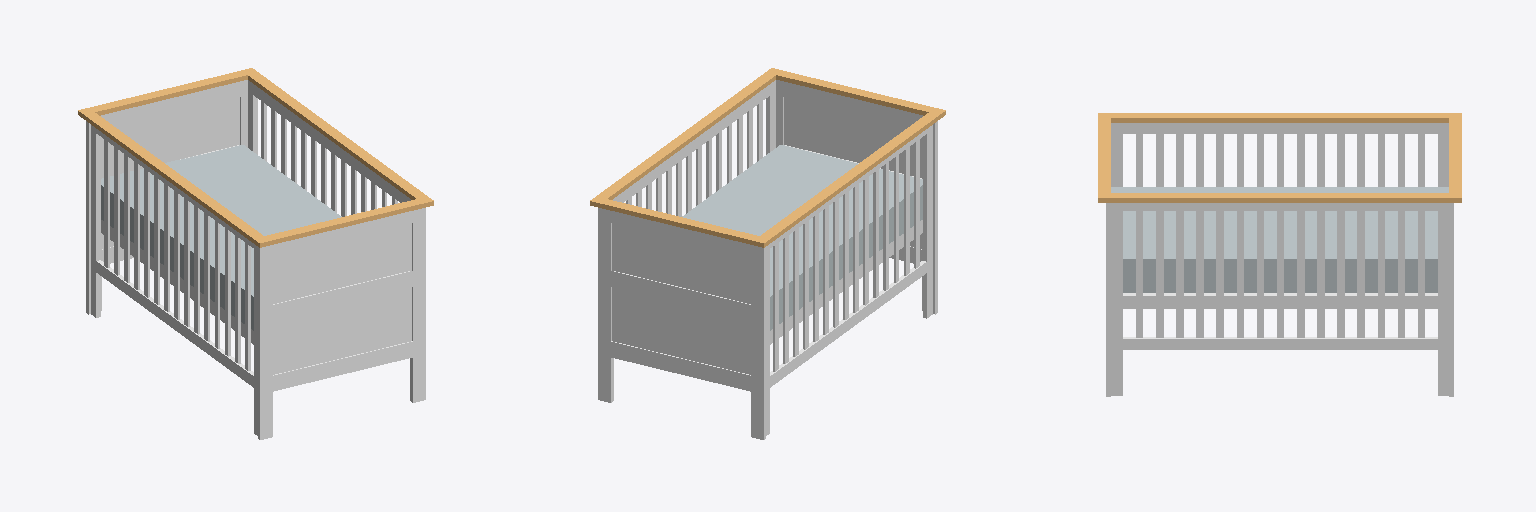
3 renders of one model, left to right at view 1: azimuth 30°, elevation 25°; view 2: azimuth 150°, elevation 25°; view 3: azimuth 270°, elevation 25°, orthographic.
Parts seen in each view (by area): view 1: group[number redacted], group[number redacted], group[number redacted], group[number redacted], group[number redacted], group[number redacted]; view 2: group[number redacted], group[number redacted], group[number redacted], group[number redacted], group[number redacted], group[number redacted]; view 3: group[number redacted], group[number redacted], group[number redacted], group[number redacted], group[number redacted], group[number redacted].
Boxes of the visible parts, x1,y1,x2,y2 form: group[number redacted]: [253, 196, 433, 439]; group[number redacted]: [84, 112, 262, 435]; group[number redacted]: [101, 145, 341, 330]; group[number redacted]: [78, 68, 257, 314]; group[number redacted]: [248, 72, 426, 216]; group[number redacted]: [101, 220, 253, 344]; group[number redacted]: [590, 196, 770, 439]; group[number redacted]: [761, 112, 939, 435]; group[number redacted]: [682, 145, 922, 330]; group[number redacted]: [766, 68, 945, 314]; group[number redacted]: [597, 72, 775, 216]; group[number redacted]: [770, 220, 922, 344]; group[number redacted]: [1111, 193, 1450, 395]; group[number redacted]: [1111, 187, 1448, 292]; group[number redacted]: [1111, 113, 1448, 186]; group[number redacted]: [1123, 293, 1437, 308]; group[number redacted]: [1098, 113, 1110, 396]; group[number redacted]: [1449, 113, 1461, 396].
Bounding box in the file's own units: 0.8 × 0.88 × 1.45.